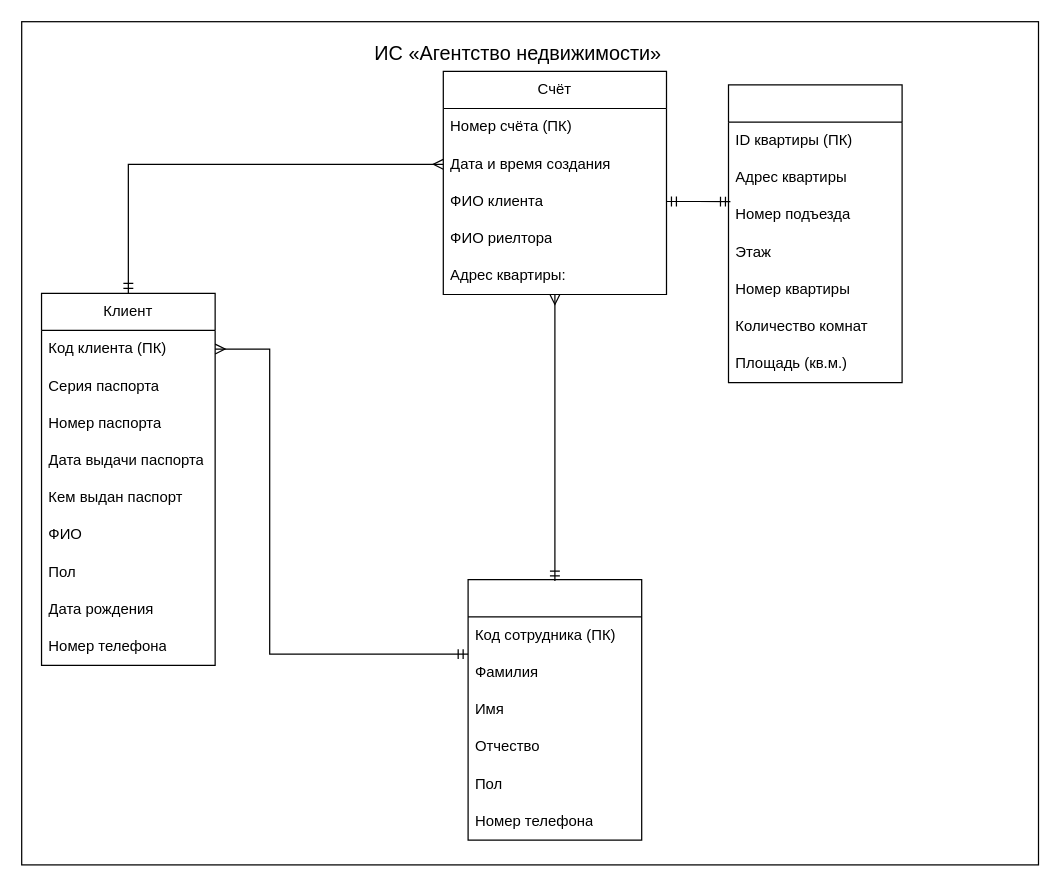
The diagram is 1060 pixels wide and 887 high, and some of its shapes have lost their labels. The shapes that lost their labels are listed below. From the top down, each one's box as (x1, y1, x2, y2) in pixels, then its label:
(727, 84, 902, 383): Квартира
(467, 578, 642, 840): Сотрудник агентства
